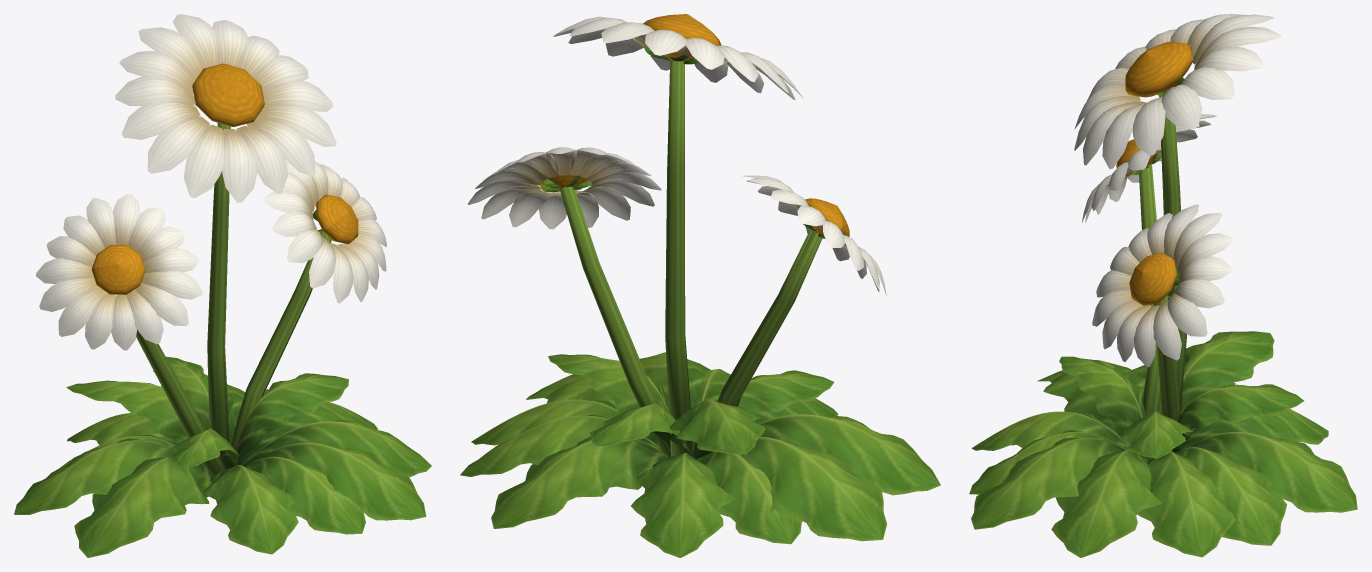
File: NP_Daisy_Ready.fbx
3 renders of one model, left to right at view 1: azimuth 30°, elevation 25°; view 2: azimuth 150°, elevation 25°; view 3: azimuth 270°, elevation 25°, orthographic. The views are drawn at different scales.
Visible parts, largest first — view 1: NP_Daisy_Ready.001; view 2: NP_Daisy_Ready.001; view 3: NP_Daisy_Ready.001.
Part boxes in pixels (x1,y1,x2,y2): NP_Daisy_Ready.001: (14,14,431,557); NP_Daisy_Ready.001: (460,14,940,557); NP_Daisy_Ready.001: (969,14,1357,557).
Size of the model in its own units: 82.09 by 91.33 by 72.15.
